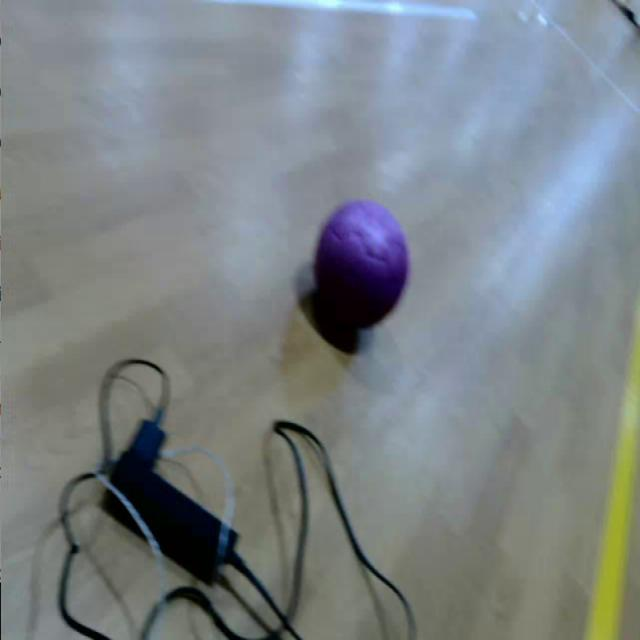purple_ball: (316, 198, 412, 330)
